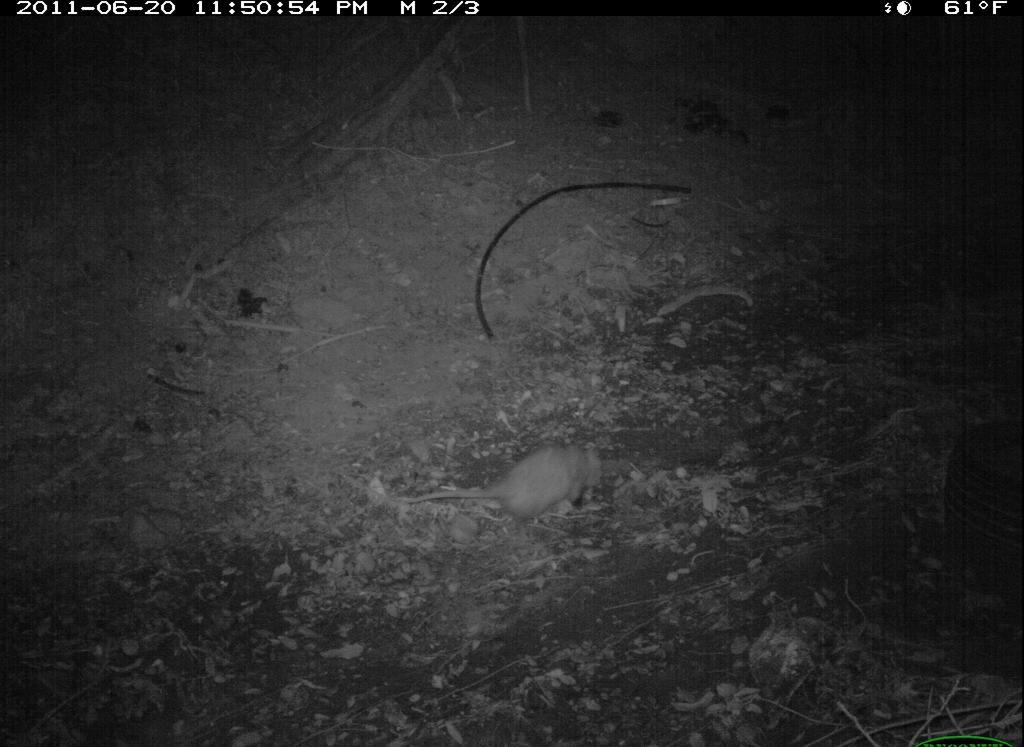opossum: (390, 434, 646, 551)
